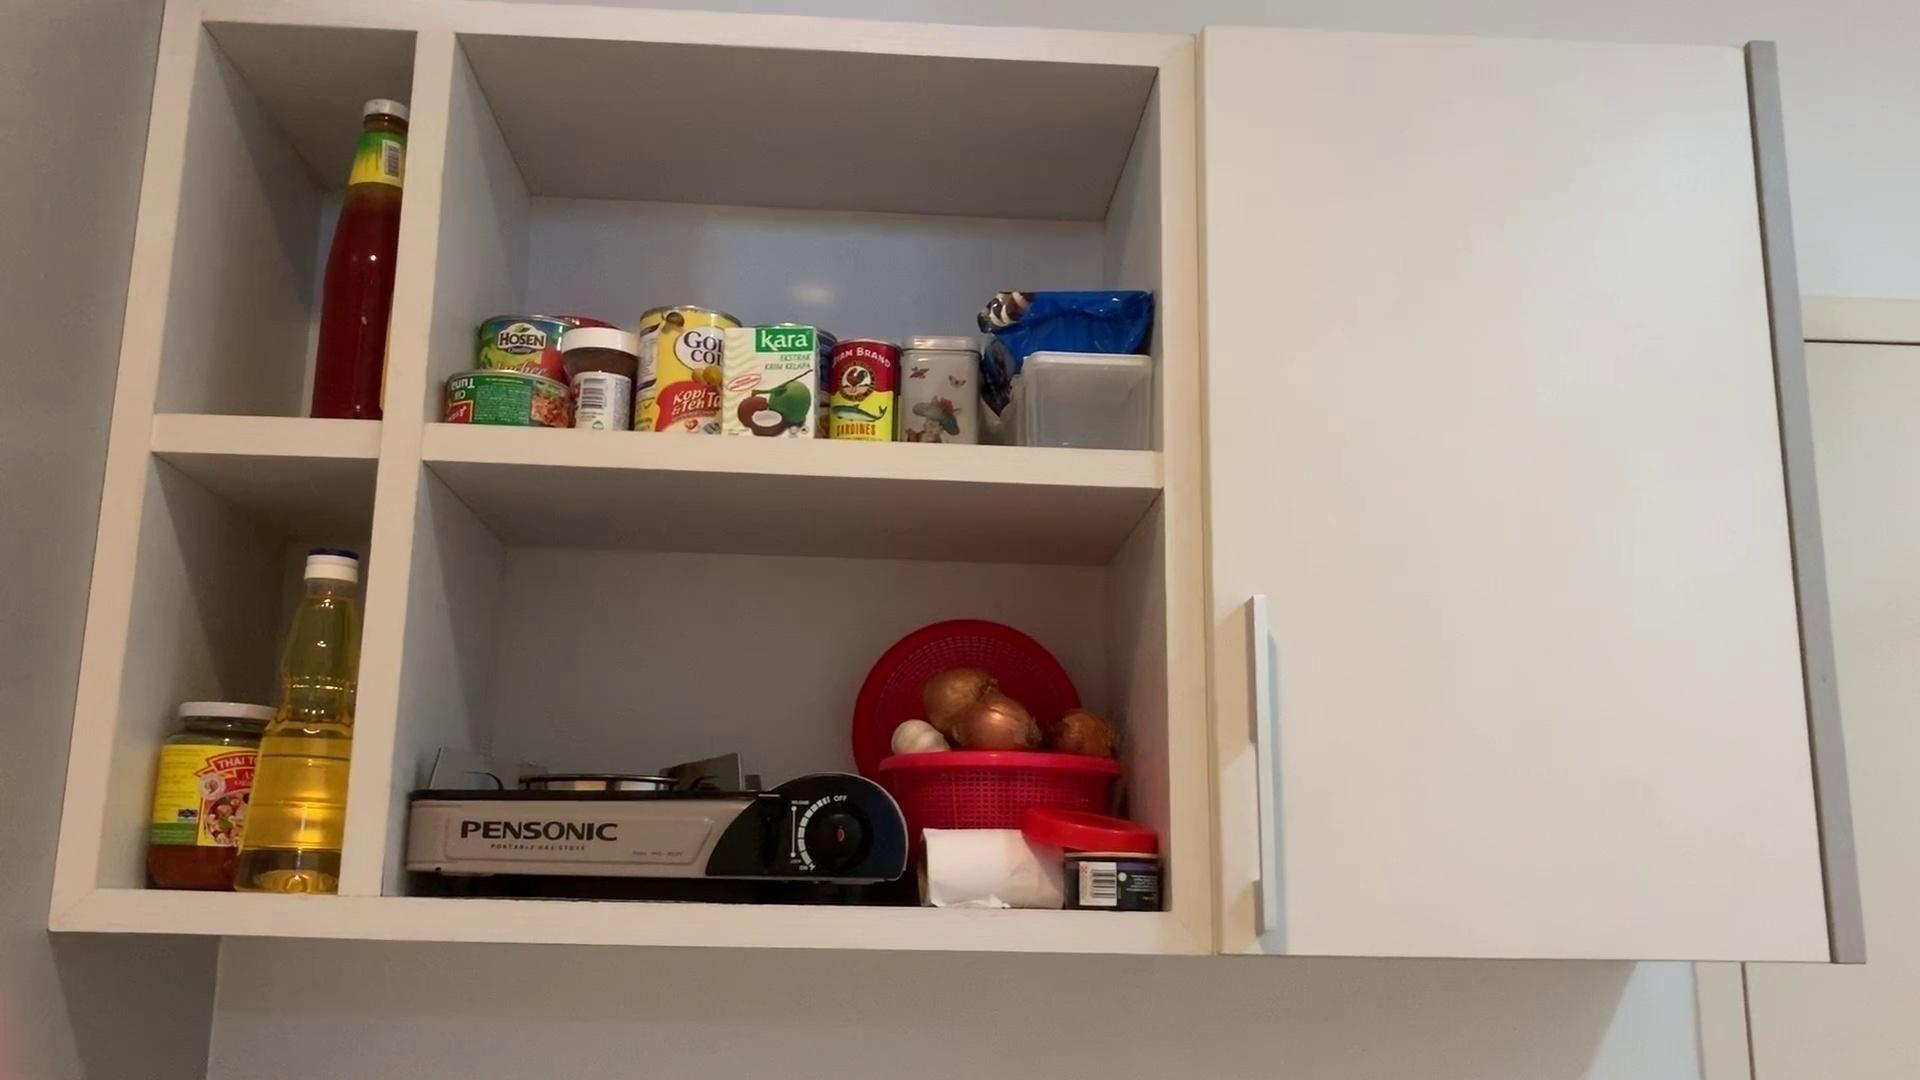cabinet_door: (1218, 16, 1766, 961)
handle: (1234, 582, 1298, 951)
